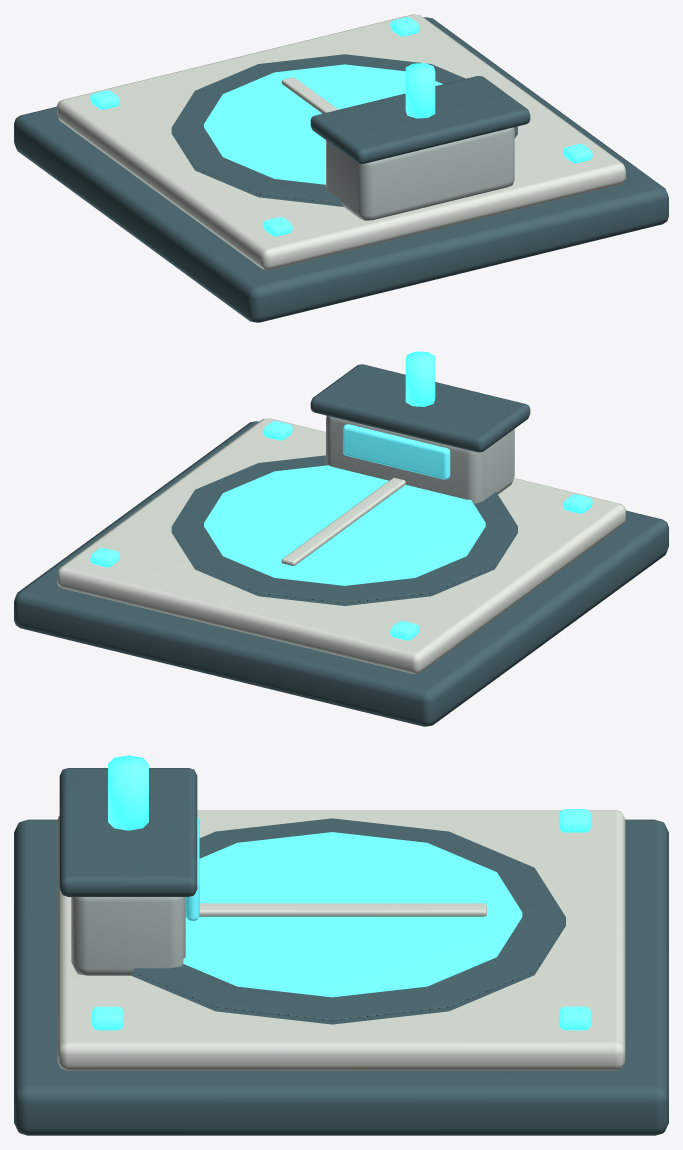
Rendered from helipad.glb.
The picture shows the model from 3 angles, top to bottom: view 1: azimuth 30°, elevation 25°; view 2: azimuth 150°, elevation 25°; view 3: azimuth 270°, elevation 25°; orthographic projection. The views are drawn at different scales.
Parts seen in each view (by area): view 1: Landing deck armor, Helipad foundation, Landing zone inner ring, Flight service annex, Annex roof, Landing zone ring, Landing beacon, Landing center stripe; view 2: Landing deck armor, Helipad foundation, Landing zone inner ring, Landing zone ring, Annex roof, Flight service annex, Control room glazing, Landing center stripe, Landing beacon; view 3: Helipad foundation, Landing deck armor, Landing zone inner ring, Landing zone ring, Annex roof, Flight service annex, Landing center stripe, Landing beacon, Apron perimeter light.002, Apron perimeter light.003, Apron perimeter light.001, Control room glazing.
Part boxes in pixels (x1,y1,x2,y2): Landing deck armor: [57, 14, 625, 269]; Helipad foundation: [14, 17, 668, 322]; Landing zone inner ring: [204, 64, 442, 184]; Flight service annex: [326, 127, 514, 220]; Annex roof: [310, 76, 530, 163]; Landing zone ring: [171, 54, 517, 206]; Landing beacon: [405, 63, 435, 118]; Landing center stripe: [281, 77, 338, 113]; Landing deck armor: [57, 418, 625, 673]; Helipad foundation: [14, 421, 668, 726]; Landing zone inner ring: [204, 465, 485, 585]; Landing zone ring: [171, 455, 517, 605]; Annex roof: [310, 364, 530, 452]; Flight service annex: [326, 416, 514, 503]; Control room glazing: [343, 424, 450, 479]; Landing center stripe: [281, 477, 405, 565]; Landing beacon: [405, 351, 435, 406]; Helipad foundation: [14, 819, 668, 1135]; Landing deck armor: [57, 810, 625, 1070]; Landing zone inner ring: [183, 832, 522, 997]; Landing zone ring: [131, 818, 565, 1024]; Annex roof: [59, 768, 197, 896]; Flight service annex: [71, 897, 185, 975]; Landing center stripe: [185, 903, 486, 916]; Landing beacon: [108, 755, 148, 830]; Apron perimeter light.002: [92, 1006, 123, 1030]; Apron perimeter light.003: [559, 1006, 590, 1030]; Apron perimeter light.001: [559, 809, 590, 832]; Control room glazing: [185, 816, 199, 920].
Size of the model in its own units: 2.86 by 1.15 by 2.86.
